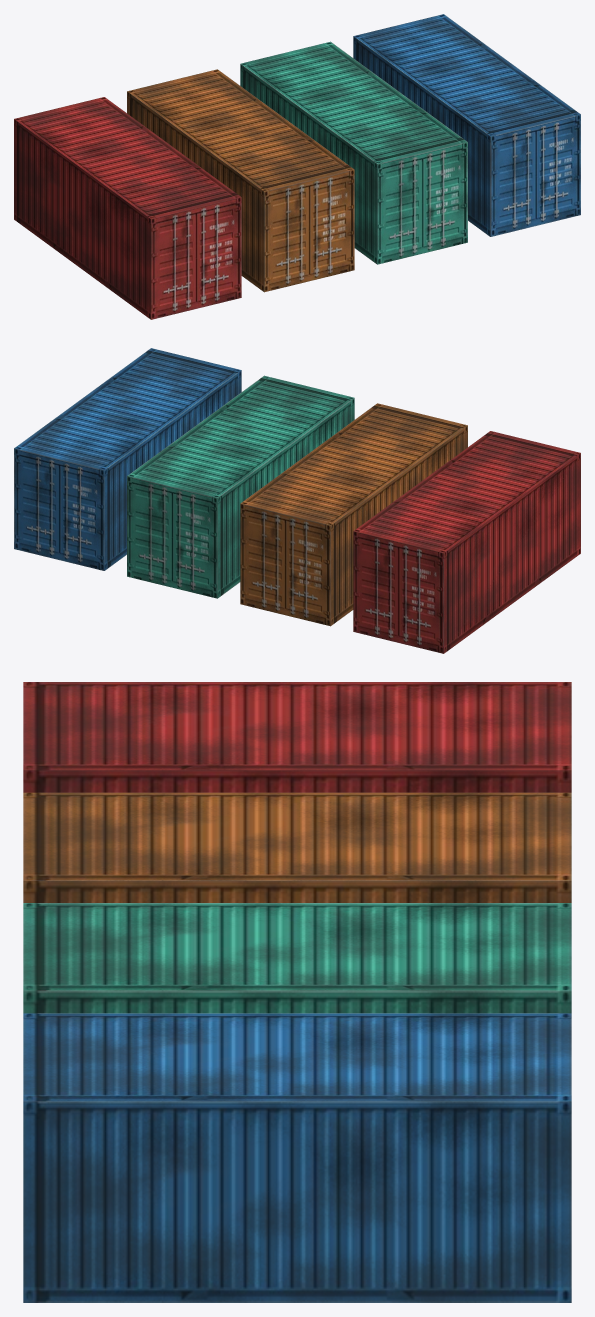
Rendered from containers.glb.
3 renders of one model, top to bottom at view 1: azimuth 30°, elevation 25°; view 2: azimuth 150°, elevation 25°; view 3: azimuth 270°, elevation 25°, orthographic. The views are drawn at different scales.
Visible parts, largest first — view 1: cargo_1_cargo container4.png_0, cargo_2_cargo container3.png_0, cargo_cargo container2.png_0, cargo_3_cargo container1.png_0; view 2: cargo_1_cargo container4.png_0, cargo_2_cargo container3.png_0, cargo_cargo container2.png_0, cargo_3_cargo container1.png_0; view 3: cargo_3_cargo container1.png_0, cargo_cargo container2.png_0, cargo_1_cargo container4.png_0, cargo_2_cargo container3.png_0.
Boxes of the visible parts, x1,y1,x2,y2 form: cargo_1_cargo container4.png_0: [14, 97, 241, 319]; cargo_2_cargo container3.png_0: [127, 69, 354, 292]; cargo_cargo container2.png_0: [240, 41, 467, 264]; cargo_3_cargo container1.png_0: [353, 14, 580, 236]; cargo_1_cargo container4.png_0: [353, 431, 580, 653]; cargo_2_cargo container3.png_0: [240, 403, 467, 626]; cargo_cargo container2.png_0: [127, 375, 354, 598]; cargo_3_cargo container1.png_0: [14, 348, 241, 570]; cargo_3_cargo container1.png_0: [23, 1013, 571, 1302]; cargo_cargo container2.png_0: [23, 903, 571, 1013]; cargo_1_cargo container4.png_0: [23, 682, 571, 792]; cargo_2_cargo container3.png_0: [23, 792, 571, 902].
Bounding box in the file's own units: 10.87 × 2.43 × 6.
Materials: 4 (4 with a texture image).
